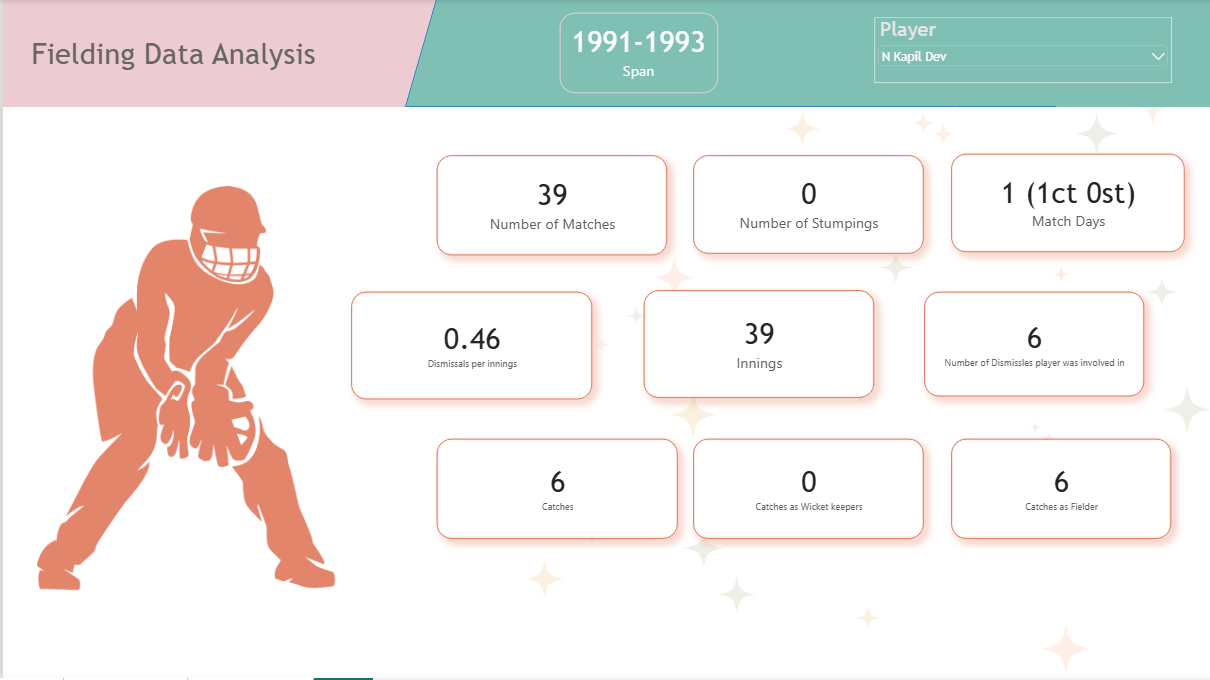

What the dashboard file says about the page in this screenshot:
{"tool":"powerbi","page":{"name":"Fielding","canvas":[1920,1080],"ordinal":2},"visuals":[{"type":"shape","box":[0,0,1011.6,171.8],"z":0},{"type":"shape","box":[639.4,0,1281.2,171.8],"z":1000},{"type":"shape","box":[1674.9,0,245.7,171.8],"z":2000},{"type":"slicer","fields":{"Values":["Fielding.Player"]},"box":[1386.2,28.6,472.4,105],"z":3000},{"type":"cardVisual","fields":{"Data":["Min(Fielding.Span)"]},"box":[885.2,21.5,252.9,128.8],"z":4000},{"type":"cardVisual","fields":{"Data":["Sum(Fielding.St)"]},"box":[1097.5,248.1,367.4,157.5],"z":5000},{"type":"cardVisual","fields":{"Data":["Min(Fielding.MD)"]},"box":[1507.9,245.7,372.2,157.5],"z":6000},{"type":"cardVisual","fields":{"Data":["Sum(Fielding.Mat)"]},"box":[689.5,248.1,367.4,159.9],"z":7000},{"type":"cardVisual","fields":{"Data":["Sum(Fielding.Inns)"]},"box":[1018.8,462.9,367.4,171.8],"z":8000},{"type":"cardVisual","fields":{"Data":["Sum(Fielding.Dis)"]},"box":[1465,465.3,350.7,167],"z":9000},{"type":"cardVisual","fields":{"Data":["Sum(Fielding.D/I)"]},"box":[553.5,465.3,384.1,171.8],"z":10000},{"type":"cardVisual","fields":{"Data":["Sum(Fielding.Ct Wk)"]},"box":[1097.5,699.1,367.4,159.9],"z":11000},{"type":"cardVisual","fields":{"Data":["Sum(Fielding.Ct Fi)"]},"box":[1507.9,699.1,350.7,159.9],"z":12000},{"type":"cardVisual","fields":{"Data":["Sum(Fielding.Ct)"]},"box":[689.5,699.1,384.1,159.9],"z":13000}]}

Visuals, with their boxes in screenshot pixels (x1, y1, x2, y2), scaled from the page's 1920x1080 canvas onto the 1210x680 screenshot:
shape: x1=0 y1=0 x2=638 y2=108
shape: x1=403 y1=0 x2=1209 y2=108
shape: x1=1056 y1=0 x2=1209 y2=108
slicer - Fielding.Player: x1=874 y1=18 x2=1171 y2=84
cardVisual - Min(Fielding.Span): x1=558 y1=14 x2=717 y2=95
cardVisual - Sum(Fielding.St): x1=692 y1=156 x2=923 y2=255
cardVisual - Min(Fielding.MD): x1=950 y1=155 x2=1185 y2=254
cardVisual - Sum(Fielding.Mat): x1=435 y1=156 x2=666 y2=257
cardVisual - Sum(Fielding.Inns): x1=642 y1=291 x2=874 y2=400
cardVisual - Sum(Fielding.Dis): x1=923 y1=293 x2=1144 y2=398
cardVisual - Sum(Fielding.D/I): x1=349 y1=293 x2=591 y2=401
cardVisual - Sum(Fielding.Ct Wk): x1=692 y1=440 x2=923 y2=541
cardVisual - Sum(Fielding.Ct Fi): x1=950 y1=440 x2=1171 y2=541
cardVisual - Sum(Fielding.Ct): x1=435 y1=440 x2=677 y2=541
